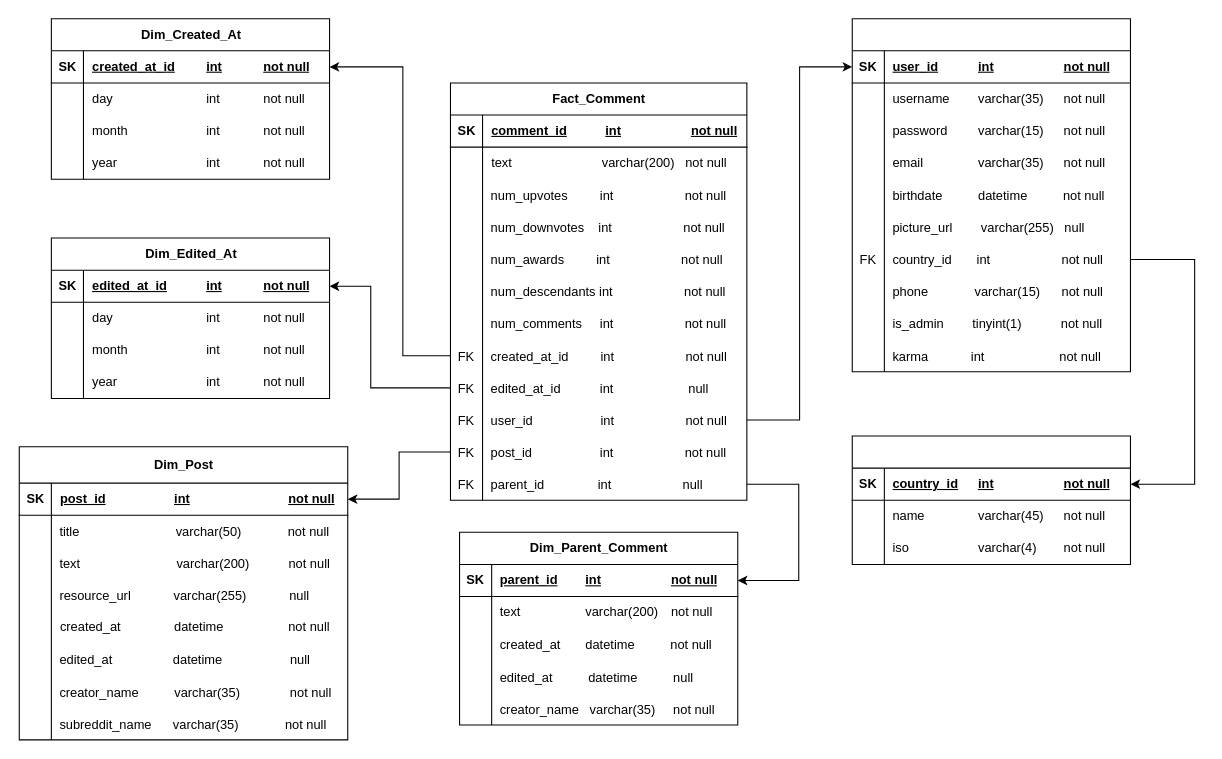
This 1222x759 diagram has some shape labels left out. Each missing label, with the box of its shape:
Dim_Country: (851, 435, 1130, 564)
Dim_User: (851, 18, 1130, 372)
